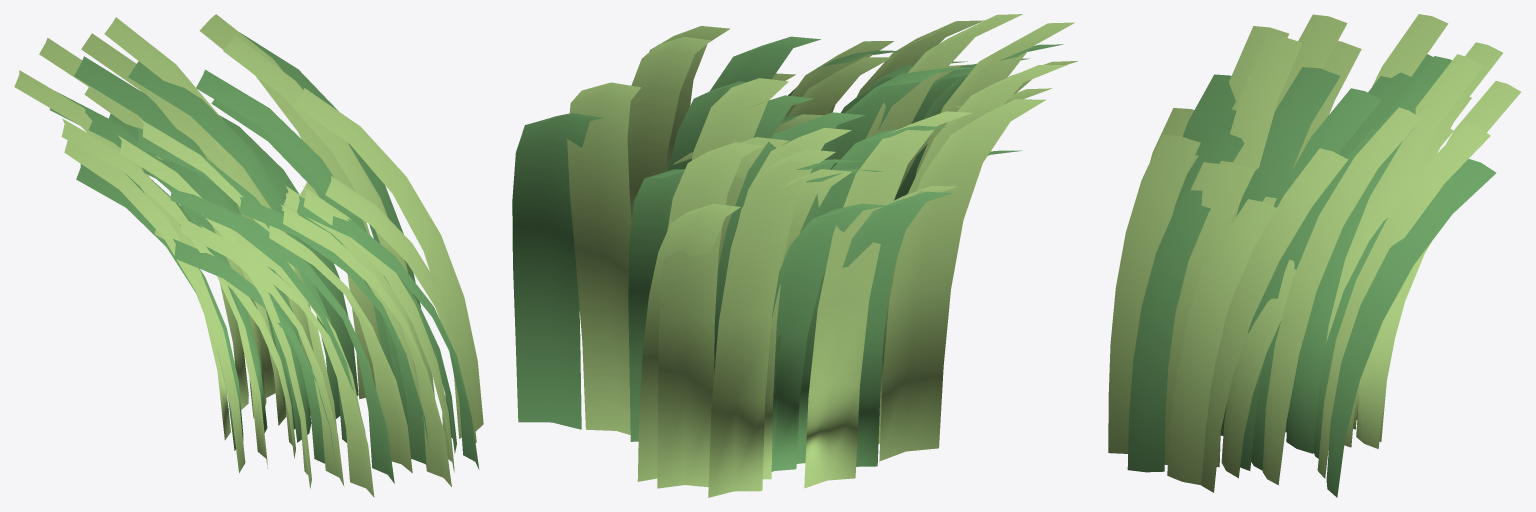
File: prop_sea_grass_2.glb
The picture shows the model from 3 angles, left to right: view 1: azimuth 30°, elevation 25°; view 2: azimuth 150°, elevation 25°; view 3: azimuth 270°, elevation 25°; orthographic projection. The views are drawn at different scales.
Parts seen in each view (by area): view 1: sea_grass_2; view 2: sea_grass_2; view 3: sea_grass_2.
Boxes of the visible parts, x1,y1,x2,y2 form: sea_grass_2: [14, 14, 483, 497]; sea_grass_2: [512, 14, 1078, 497]; sea_grass_2: [1108, 14, 1520, 497].
Size of the model in its own units: 1.7 by 1.53 by 1.74.
